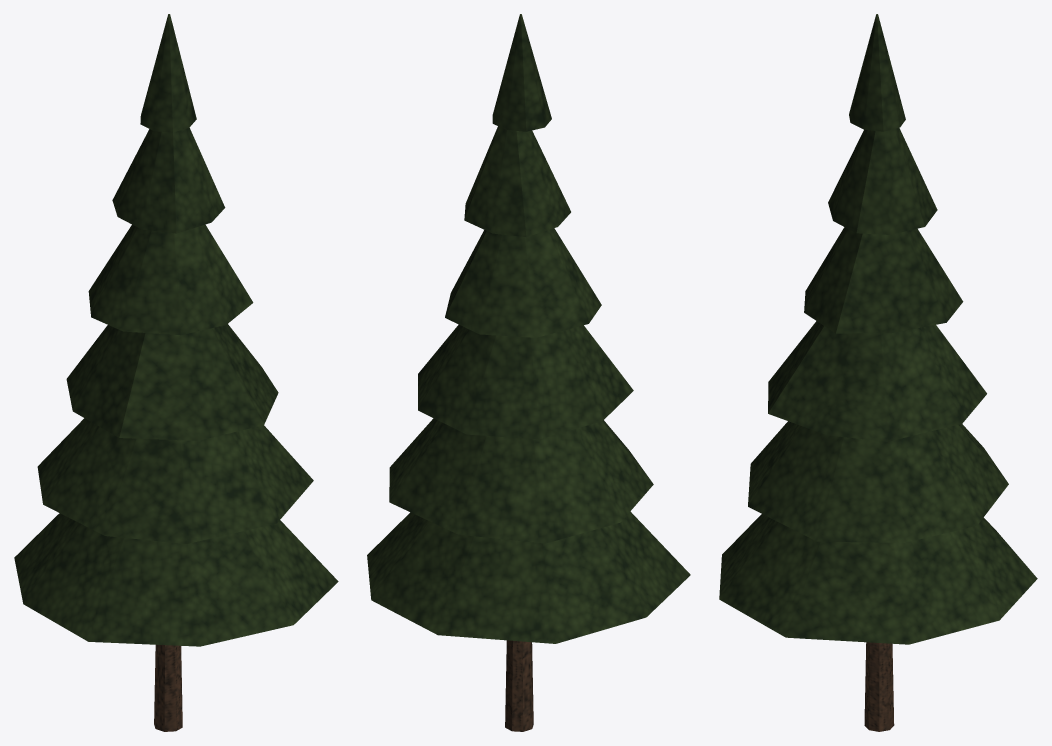
Rendered from SM_Tree_Pine_A_LOD1.glb.
The picture shows the model from 3 angles, left to right: view 1: azimuth 30°, elevation 25°; view 2: azimuth 150°, elevation 25°; view 3: azimuth 270°, elevation 25°; orthographic projection.
Visible parts, largest first — view 1: SM_Tree_Pine_A_LOD1; view 2: SM_Tree_Pine_A_LOD1; view 3: SM_Tree_Pine_A_LOD1.
Part boxes in pixels (bbox=[...]): SM_Tree_Pine_A_LOD1: bbox=[14, 14, 338, 731]; SM_Tree_Pine_A_LOD1: bbox=[367, 14, 690, 731]; SM_Tree_Pine_A_LOD1: bbox=[719, 14, 1037, 731].
Bounding box in the file's own units: 6.38 × 15.84 × 6.43.
Materials: 1 (1 with a texture image).
